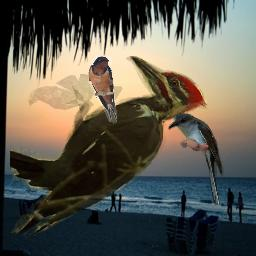Cuckoo: (168, 113, 224, 205)
Swallow: (88, 56, 117, 122)
Woodpecker: (10, 56, 208, 239)
